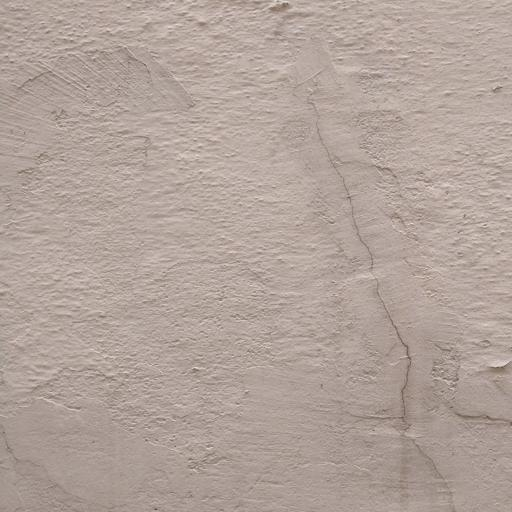minor_crack: (295, 60, 463, 512)
